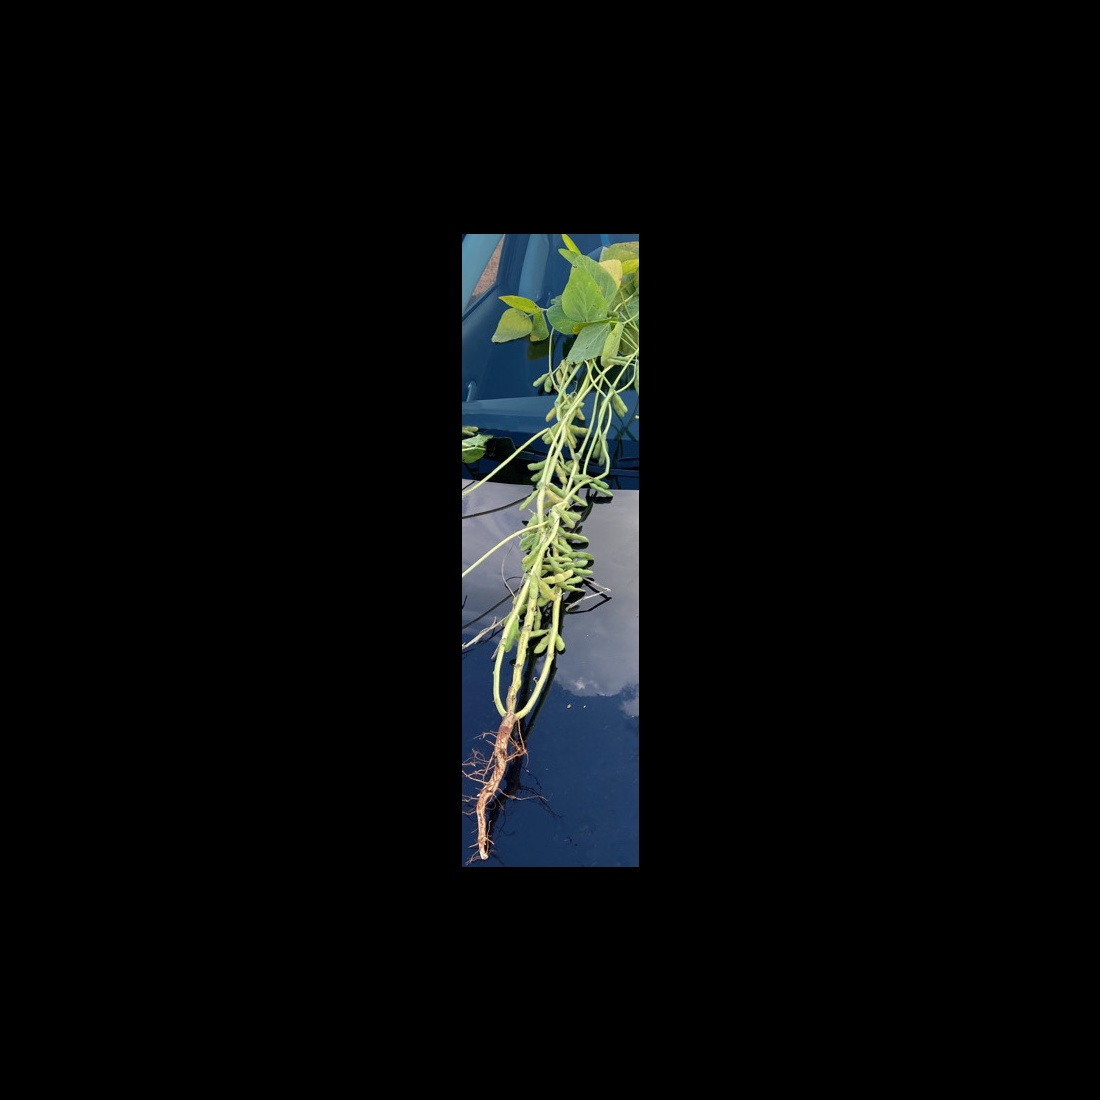pod: (540, 568, 573, 584), (516, 489, 537, 512), (532, 634, 553, 656), (559, 508, 578, 530), (558, 532, 590, 544), (613, 390, 629, 415), (553, 460, 568, 486), (533, 369, 551, 388), (541, 373, 553, 394), (569, 425, 592, 434)
soy: (464, 241, 634, 851)
